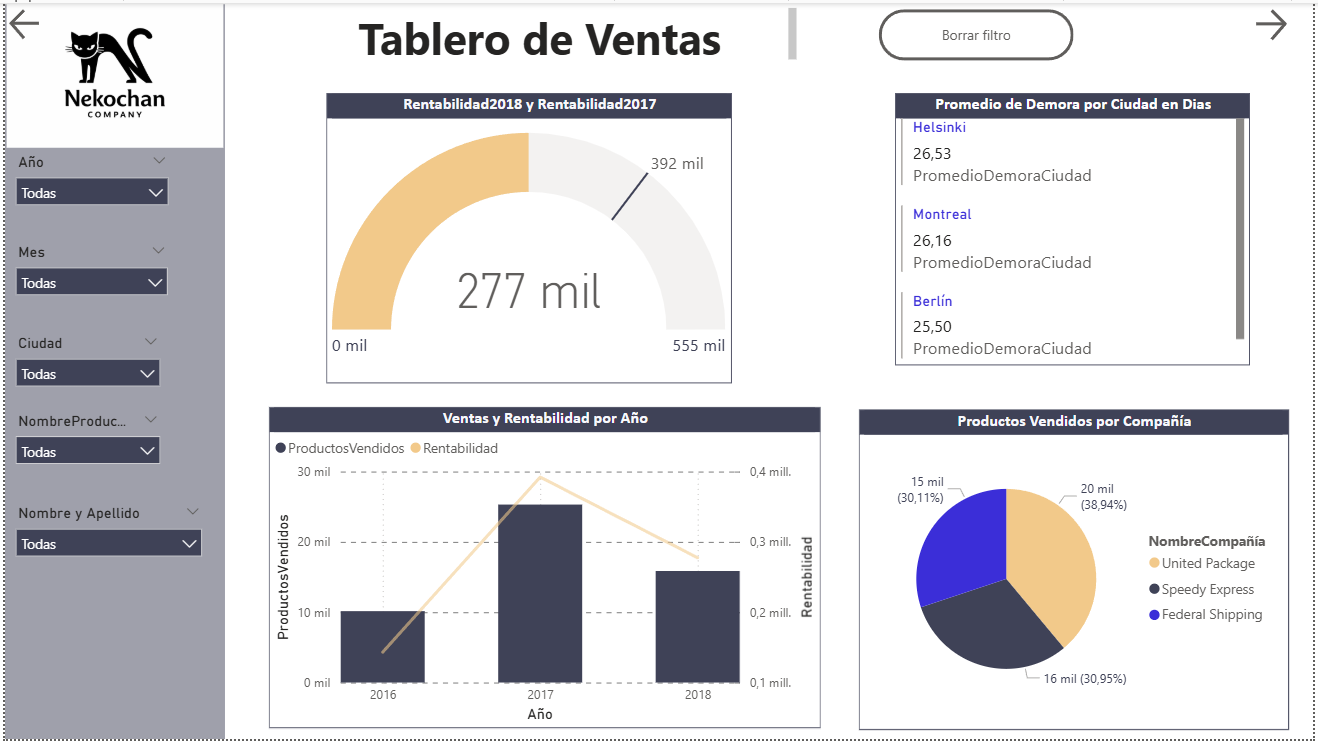

The page's visual inventory and layout, read from the dashboard file:
{"tool":"powerbi","page":{"name":"Informe de Venta","canvas":[1280,720],"ordinal":1},"visuals":[{"type":"shape","box":[0,1.2,215.2,719],"z":0},{"type":"pieChart","title":"Productos Vendidos por Compañía","fields":{"Y":["Metricas.ProductosVendidos"],"Category":["DimEnvios.NombreCompañía"]},"box":[834.7,396.8,420.5,313.5],"z":1000},{"type":"lineStackedColumnComboChart","title":"Ventas y Rentabilidad por Año","fields":{"Category":["Calendario.Año","Calendario.Mes","Calendario.Date.Variación.Jerarquía de fechas.Día"],"Y":["Metricas.ProductosVendidos"],"Y2":["Metricas.Rentabilidad"]},"box":[257.5,395.6,539.9,314.7],"z":2000},{"type":"multiRowCard","title":"Promedio de Demora por Ciudad en Dias","fields":{"Values":["Metricas.PromedioDemora","DimClientes.Ciudad"]},"box":[870.8,88.3,347.1,266.2],"z":3000},{"type":"slicer","fields":{"Values":["Calendario.Año"]},"box":[0,141.8,170,88],"z":4000},{"type":"slicer","fields":{"Values":["Calendario.Mes"]},"box":[0,230.1,169.2,90.8],"z":5000},{"type":"slicer","fields":{"Values":["DimClientes.Ciudad"]},"box":[0,319.7,161.7,87.1],"z":6000},{"type":"slicer","fields":{"Values":["DimProductos.NombreProducto"]},"box":[0,395.6,161.7,89.6],"z":7000},{"type":"gauge","fields":{"Y":["Metricas.Rentabilidad2018"],"TargetValue":["Metricas.Rentabilidad2017"]},"box":[314.7,88.3,396.8,283.6],"z":8000},{"type":"actionButton","box":[854.8,6.1,190.8,50.1],"z":9000},{"type":"slicer","fields":{"Values":["DimEmpleados.Nombre y Apellido"]},"box":[0,485.1,202.8,116.9],"z":10000},{"type":"textbox","box":[275.1,0,503.8,63.6],"z":11000},{"type":"image","box":[0,0,215.2,141.8],"z":12000},{"type":"actionButton","box":[1217.9,1.2,62.4,40.4],"z":13000},{"type":"actionButton","box":[0,1.2,44,39.1],"z":14000}]}

Visuals, with their boxes in screenshot pixels (x1, y1, x2, y2):
shape: 0 25 219 742
"Productos Vendidos por Compañía" pieChart: 848 427 1275 742
"Ventas y Rentabilidad por Año" lineStackedColumnComboChart: 261 426 810 742
"Promedio de Demora por Ciudad en Dias" multiRowCard: 884 114 1237 384
slicer - Calendario.Año: 0 168 173 257
slicer - Calendario.Mes: 0 258 172 350
slicer - DimClientes.Ciudad: 0 349 164 437
slicer - DimProductos.NombreProducto: 0 426 164 517
gauge - Metricas.Rentabilidad2018 x Metricas.Rentabilidad2017: 320 114 722 402
actionButton: 868 30 1062 81
slicer - DimEmpleados.Nombre y Apellido: 0 517 206 635
textbox: 279 24 791 89
image: 0 24 219 168
actionButton: 1237 25 1300 66
actionButton: 0 25 45 65
